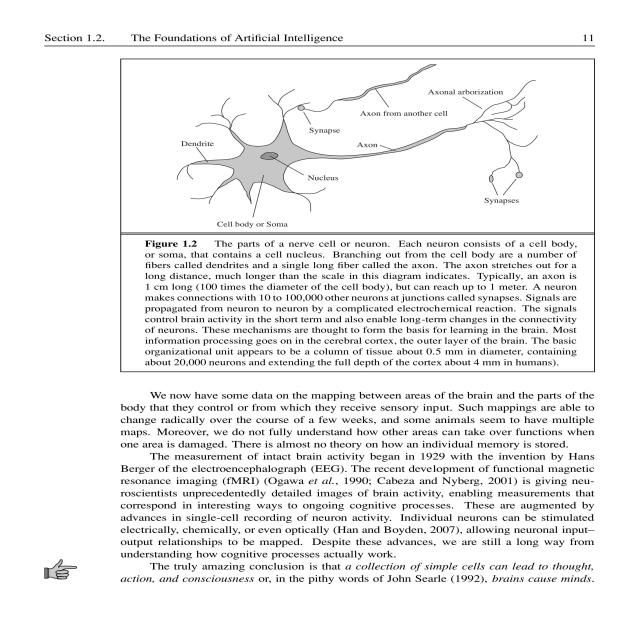diagram: (122, 61, 616, 377)
